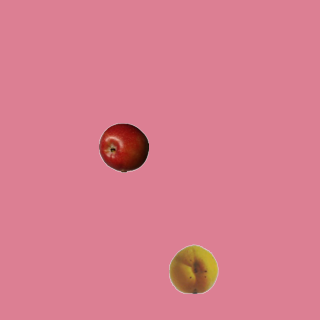Apple Braeburn: (98, 122, 148, 172)
Peach 2: (168, 243, 218, 293)
